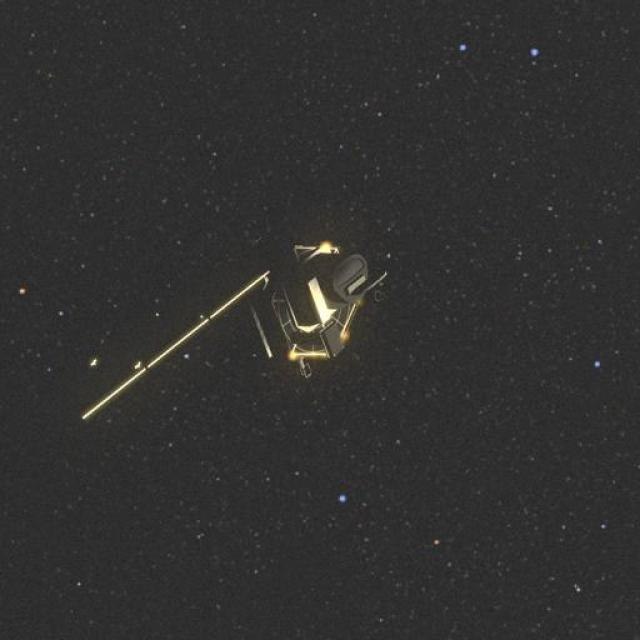earth_observation_sat_1: (215, 229, 403, 396)
